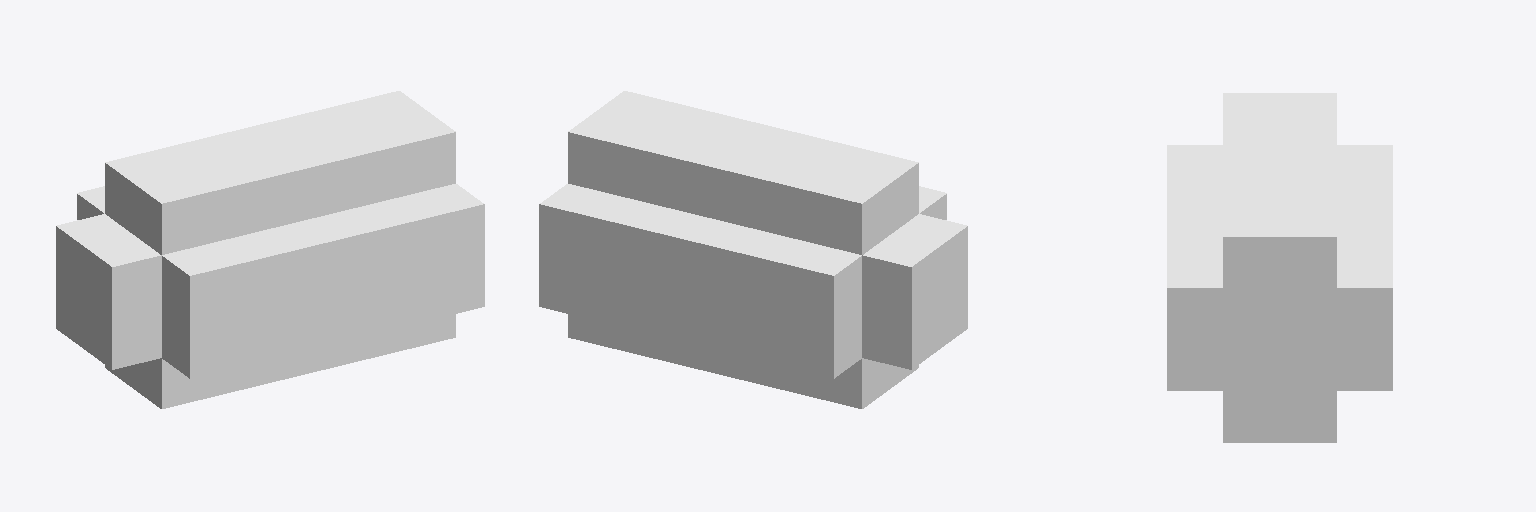
File: male-42.obj
3 views of the same model, side by side, from view 1: azimuth 30°, elevation 25°; view 2: azimuth 150°, elevation 25°; view 3: azimuth 270°, elevation 25° (orthographic).
Parts seen in each view (by area): view 1: object 1; view 2: object 1; view 3: object 1.
Part boxes in pixels (x1,y1,x2,y2): object 1: (56, 91, 484, 408); object 1: (539, 91, 967, 408); object 1: (1167, 93, 1392, 442).
Size of the model in its own units: 0.7 by 0.4 by 0.4.